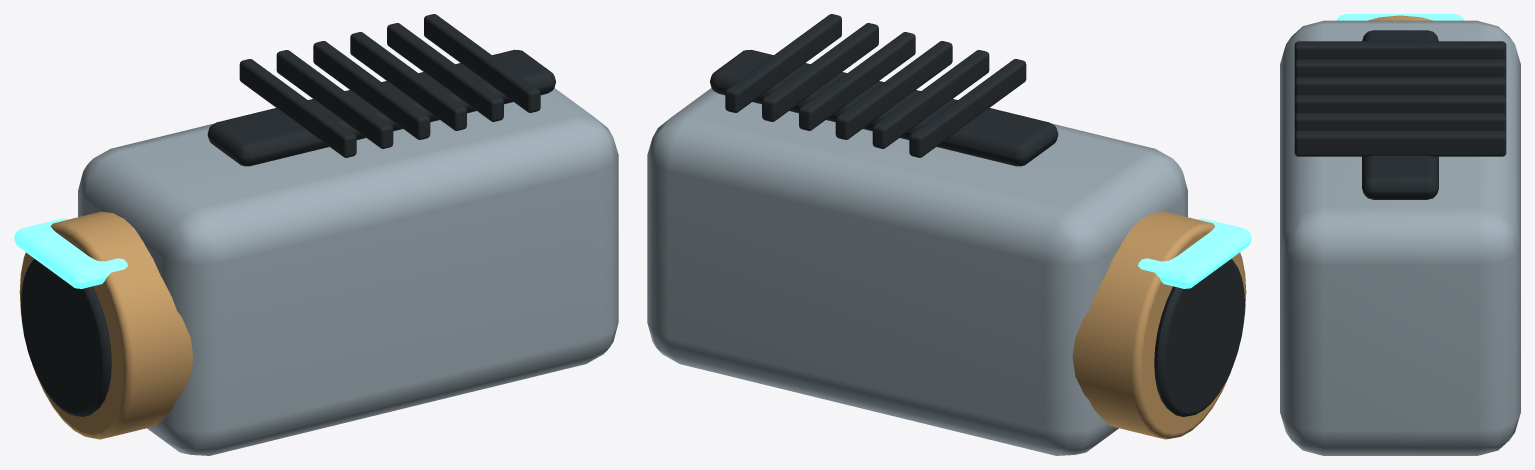
File: debris-engine.glb
The picture shows the model from 3 angles, left to right: view 1: azimuth 30°, elevation 25°; view 2: azimuth 150°, elevation 25°; view 3: azimuth 270°, elevation 25°; orthographic projection.
Visible parts, largest first — view 1: debris-engine; view 2: debris-engine; view 3: debris-engine.
Boxes of the visible parts, x1,y1,x2,y2 form: debris-engine: (14, 14, 618, 455); debris-engine: (647, 14, 1251, 455); debris-engine: (1280, 14, 1520, 455).
Size of the model in its own units: 1 by 0.5283 by 0.3937.
